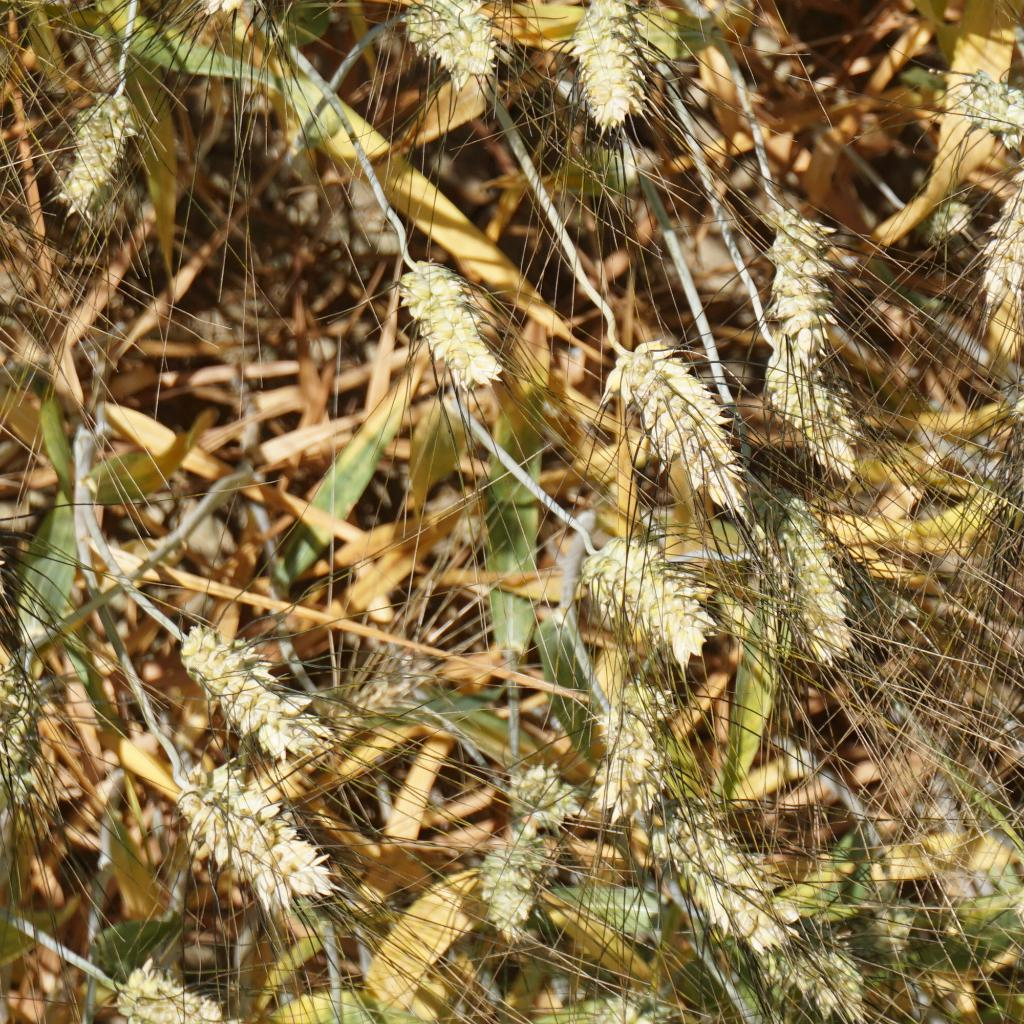0-0: (171, 762, 346, 914), (165, 614, 332, 762), (610, 342, 755, 502), (576, 531, 715, 678), (766, 478, 868, 655), (396, 256, 507, 393), (760, 346, 860, 480), (308, 635, 419, 750), (664, 832, 783, 939), (56, 86, 141, 214), (970, 130, 1024, 315), (589, 711, 674, 828), (583, 0, 645, 141), (773, 211, 837, 346), (463, 826, 546, 930), (401, 0, 497, 86), (98, 967, 227, 1024), (947, 67, 1024, 160), (762, 924, 856, 998), (887, 180, 977, 249), (510, 760, 581, 830), (0, 657, 22, 766), (201, 0, 300, 23)
